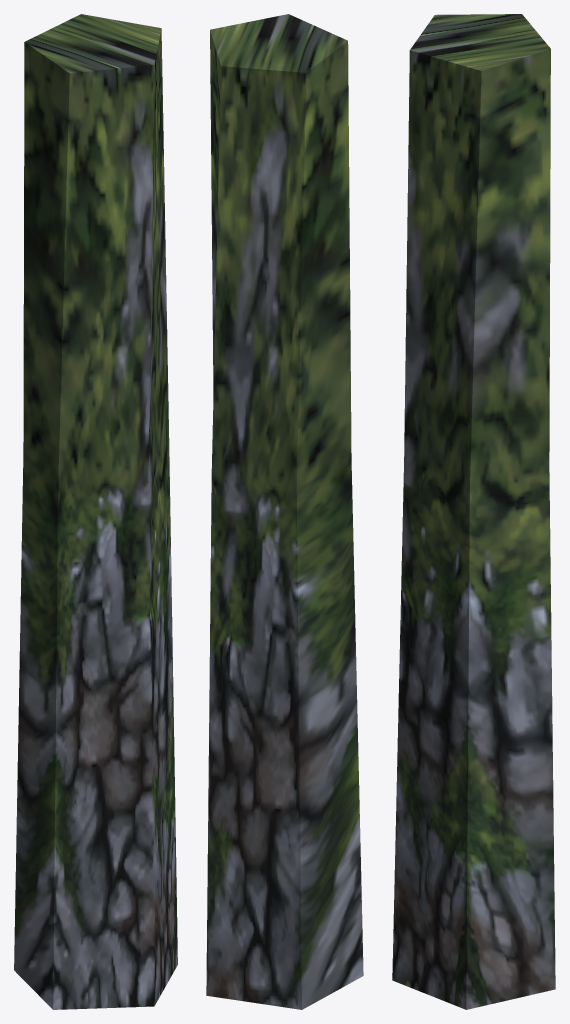
File: PineBase_2.gltf
3 views of the same model, side by side, from view 1: azimuth 30°, elevation 25°; view 2: azimuth 150°, elevation 25°; view 3: azimuth 270°, elevation 25° (orthographic).
Visible parts, largest first — view 1: PineBase_2; view 2: PineBase_2; view 3: PineBase_2.
Part boxes in pixels (left/top/right/bottom): PineBase_2: left=14, top=14, right=177, bottom=1009; PineBase_2: left=206, top=14, right=363, bottom=1009; PineBase_2: left=392, top=14, right=555, bottom=1009.
Bounding box in the file's own units: 2.32 × 14.8 × 2.34.
1 material, 1 textured.
